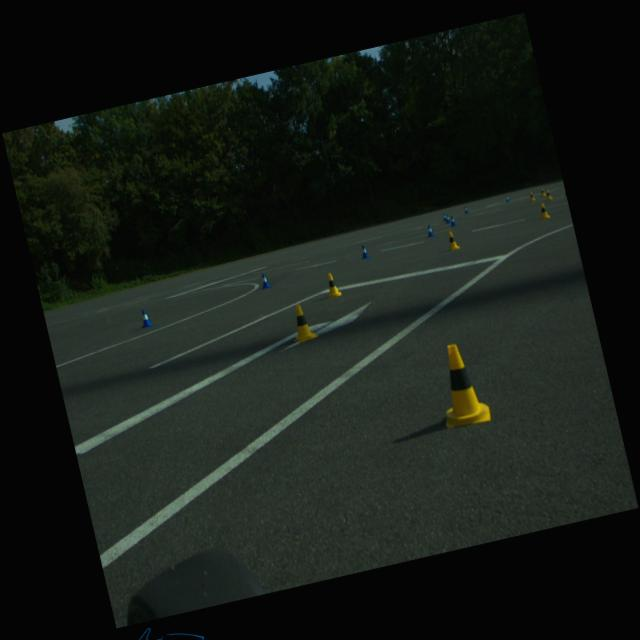blue_cone: (138, 308, 152, 328), (258, 272, 271, 289), (358, 244, 369, 259), (425, 224, 435, 237), (448, 214, 457, 226), (462, 205, 469, 213), (444, 214, 451, 222), (504, 194, 510, 202), (442, 212, 446, 220)
yellow_cone: (428, 338, 492, 429), (286, 302, 318, 342), (324, 271, 342, 298), (444, 230, 460, 250), (537, 201, 550, 219), (544, 188, 553, 200), (561, 188, 567, 200), (539, 186, 546, 196), (528, 190, 535, 200)
